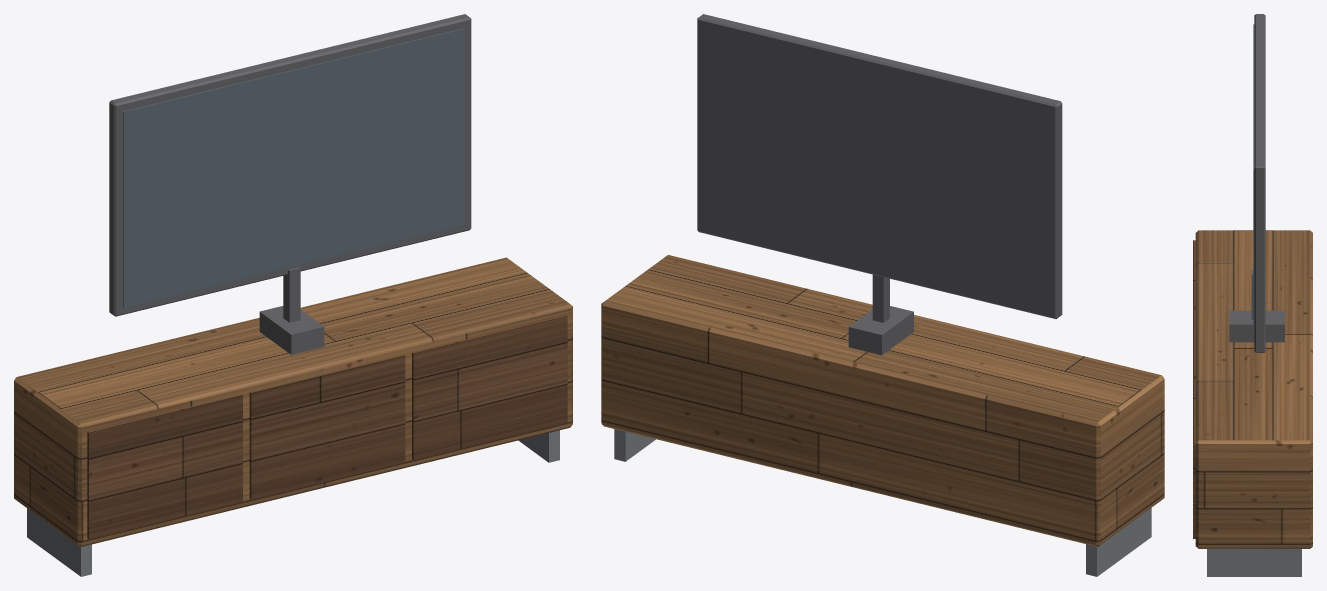
Rendered from tv_unit.glb.
3 views of the same model, side by side, from view 1: azimuth 30°, elevation 25°; view 2: azimuth 150°, elevation 25°; view 3: azimuth 270°, elevation 25° (orthographic). The views are drawn at different scales.
Parts seen in each view (by area): view 1: tv_unit_screen, tv_unit_dkwood, tv_unit_timber, tv_unit_dark, tv_unit_steel_d; view 2: tv_unit_timber, tv_unit_dark, tv_unit_steel_d; view 3: tv_unit_timber, tv_unit_dark, tv_unit_steel_d, tv_unit_dkwood, tv_unit_screen.
Boxes of the visible parts, bbox=[...] form: tv_unit_screen: bbox=[123, 28, 464, 307]; tv_unit_dkwood: bbox=[87, 315, 567, 539]; tv_unit_timber: bbox=[14, 257, 572, 547]; tv_unit_dark: bbox=[109, 14, 471, 354]; tv_unit_steel_d: bbox=[27, 430, 559, 576]; tv_unit_timber: bbox=[601, 255, 1164, 546]; tv_unit_dark: bbox=[697, 14, 1062, 355]; tv_unit_steel_d: bbox=[614, 429, 1151, 576]; tv_unit_timber: bbox=[1195, 230, 1312, 548]; tv_unit_dark: bbox=[1229, 14, 1284, 352]; tv_unit_steel_d: bbox=[1207, 549, 1301, 576]; tv_unit_dkwood: bbox=[1193, 240, 1195, 538]; tv_unit_screen: bbox=[1253, 24, 1254, 342].
Bounding box in the file's own units: 1.8 × 1.52 × 0.43.
Materials: 5 (2 with a texture image).
